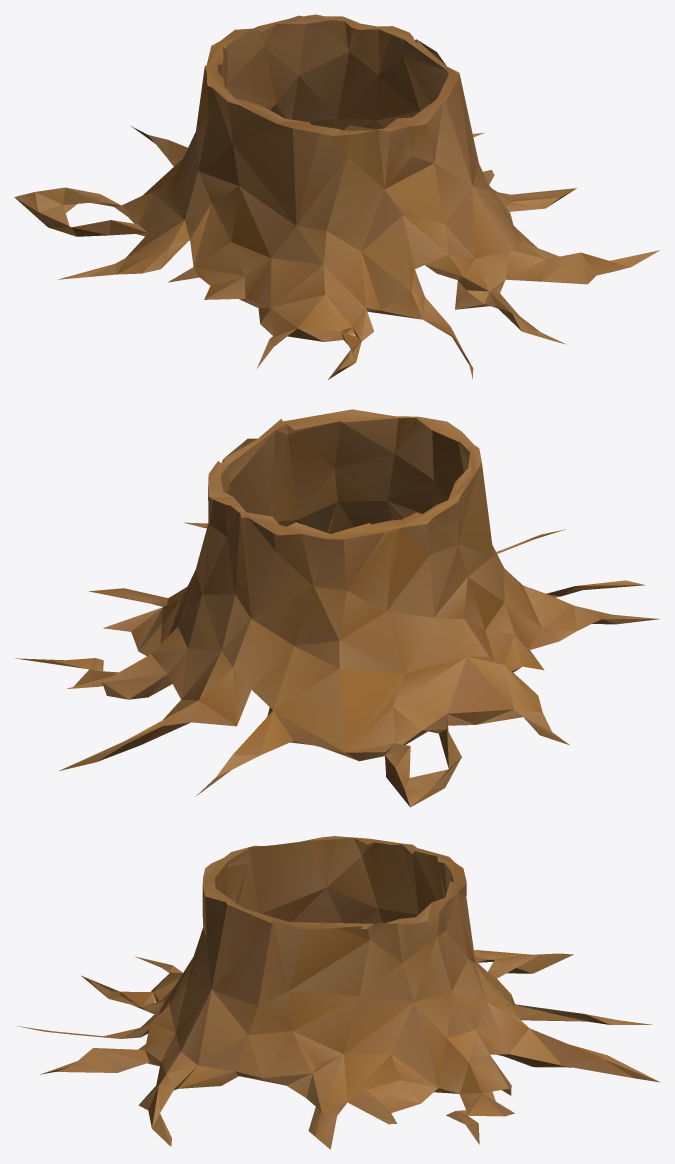
The model's file is mahogany_stump.glb.
3 views of the same model, one above another, from view 1: azimuth 30°, elevation 25°; view 2: azimuth 150°, elevation 25°; view 3: azimuth 270°, elevation 25° (orthographic). The views are drawn at different scales.
Parts seen in each view (by area): view 1: Stump; view 2: Stump; view 3: Stump.
Boxes of the visible parts, bbox=[...] form: Stump: bbox=[14, 14, 659, 379]; Stump: bbox=[15, 409, 659, 807]; Stump: bbox=[15, 836, 660, 1149].
Size of the model in its own units: 2.28 by 0.8147 by 2.85.
